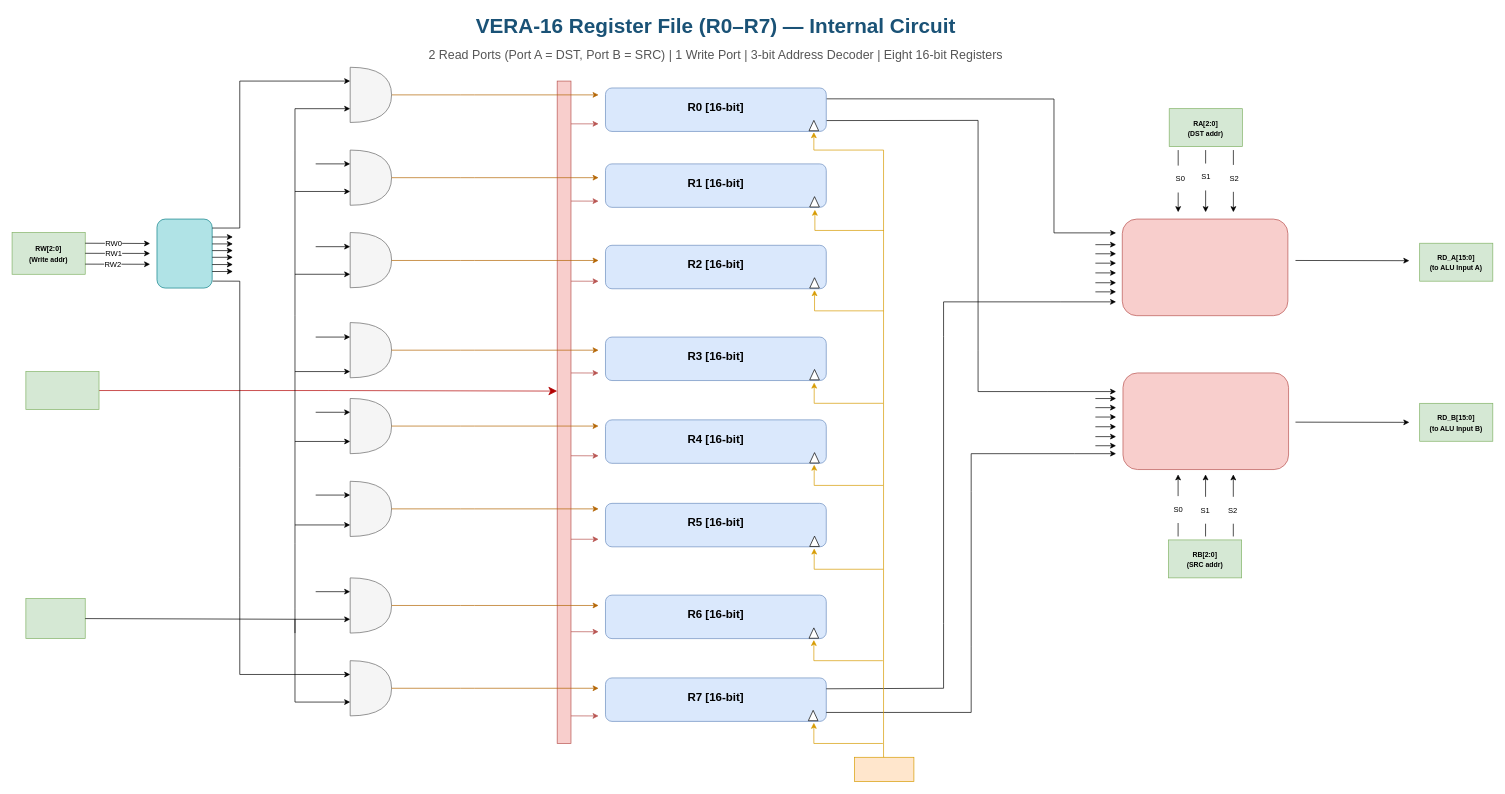
Some shapes in this 1505 by 794 pixel diagram are drawn without their labels. Here are the shapes that lost their labels. From the top down, the box of each, then its label:
(156, 218, 212, 288): 3-to-8 Decoder W (Write Port)
(1122, 218, 1288, 316): 8 x1 MUX (Port A Output)
(25, 371, 99, 410): WD[15:0] (Write Data)
(1122, 372, 1289, 470): 8 x1 MUX (Port B Output)
(25, 598, 85, 639): RegWrite (enable)
(854, 757, 914, 781): CLK
